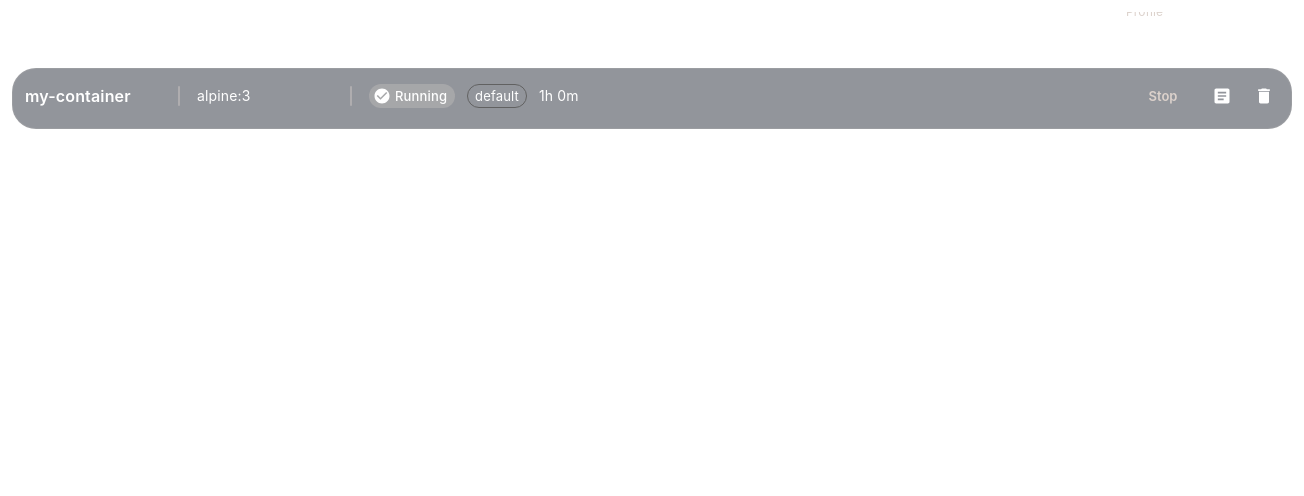
Test: ContainersView › toggles the inline log panel open and closed for a single row
Expected: the text "my-container" is shown, [25,86,131,106]
Expected: the text "Logs — my-container" is not shown
Click the button named "View logs for my-container" at [1222, 96], box [1207,81,1237,111]
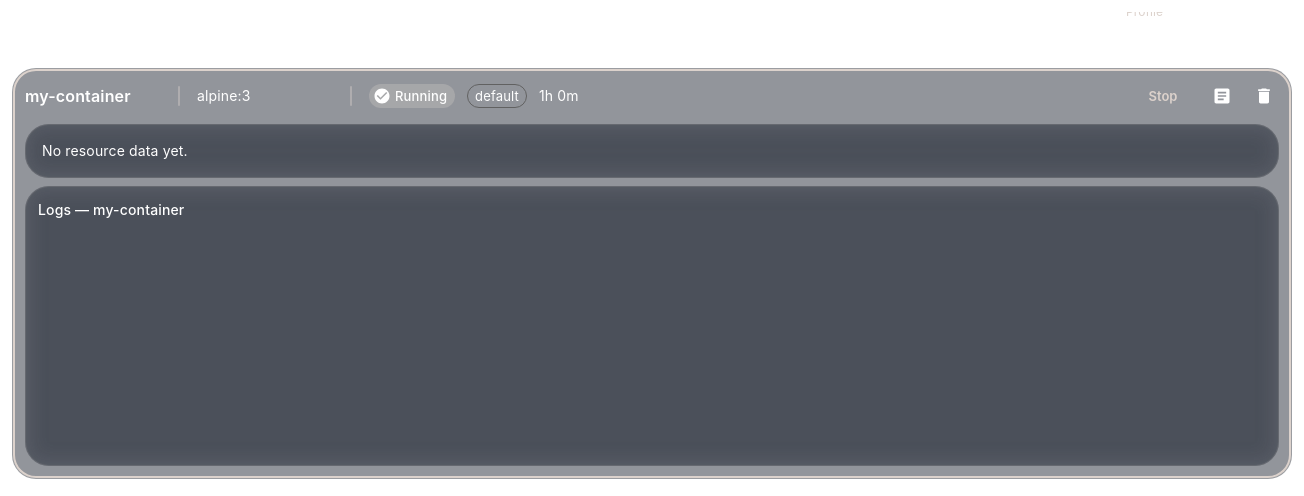
Result: the heading "Logs — my-container" is shown at [38,199,184,221]
Click the button named "View logs for my-container" at [1222, 96], box [1207,81,1237,111]
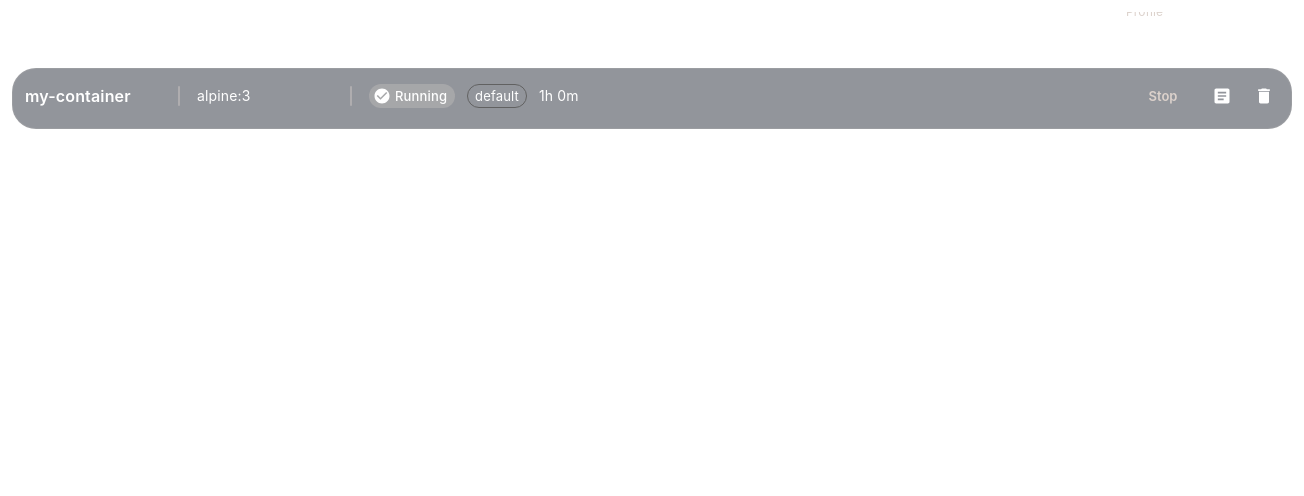
Result: the heading "Logs — my-container" is gone
